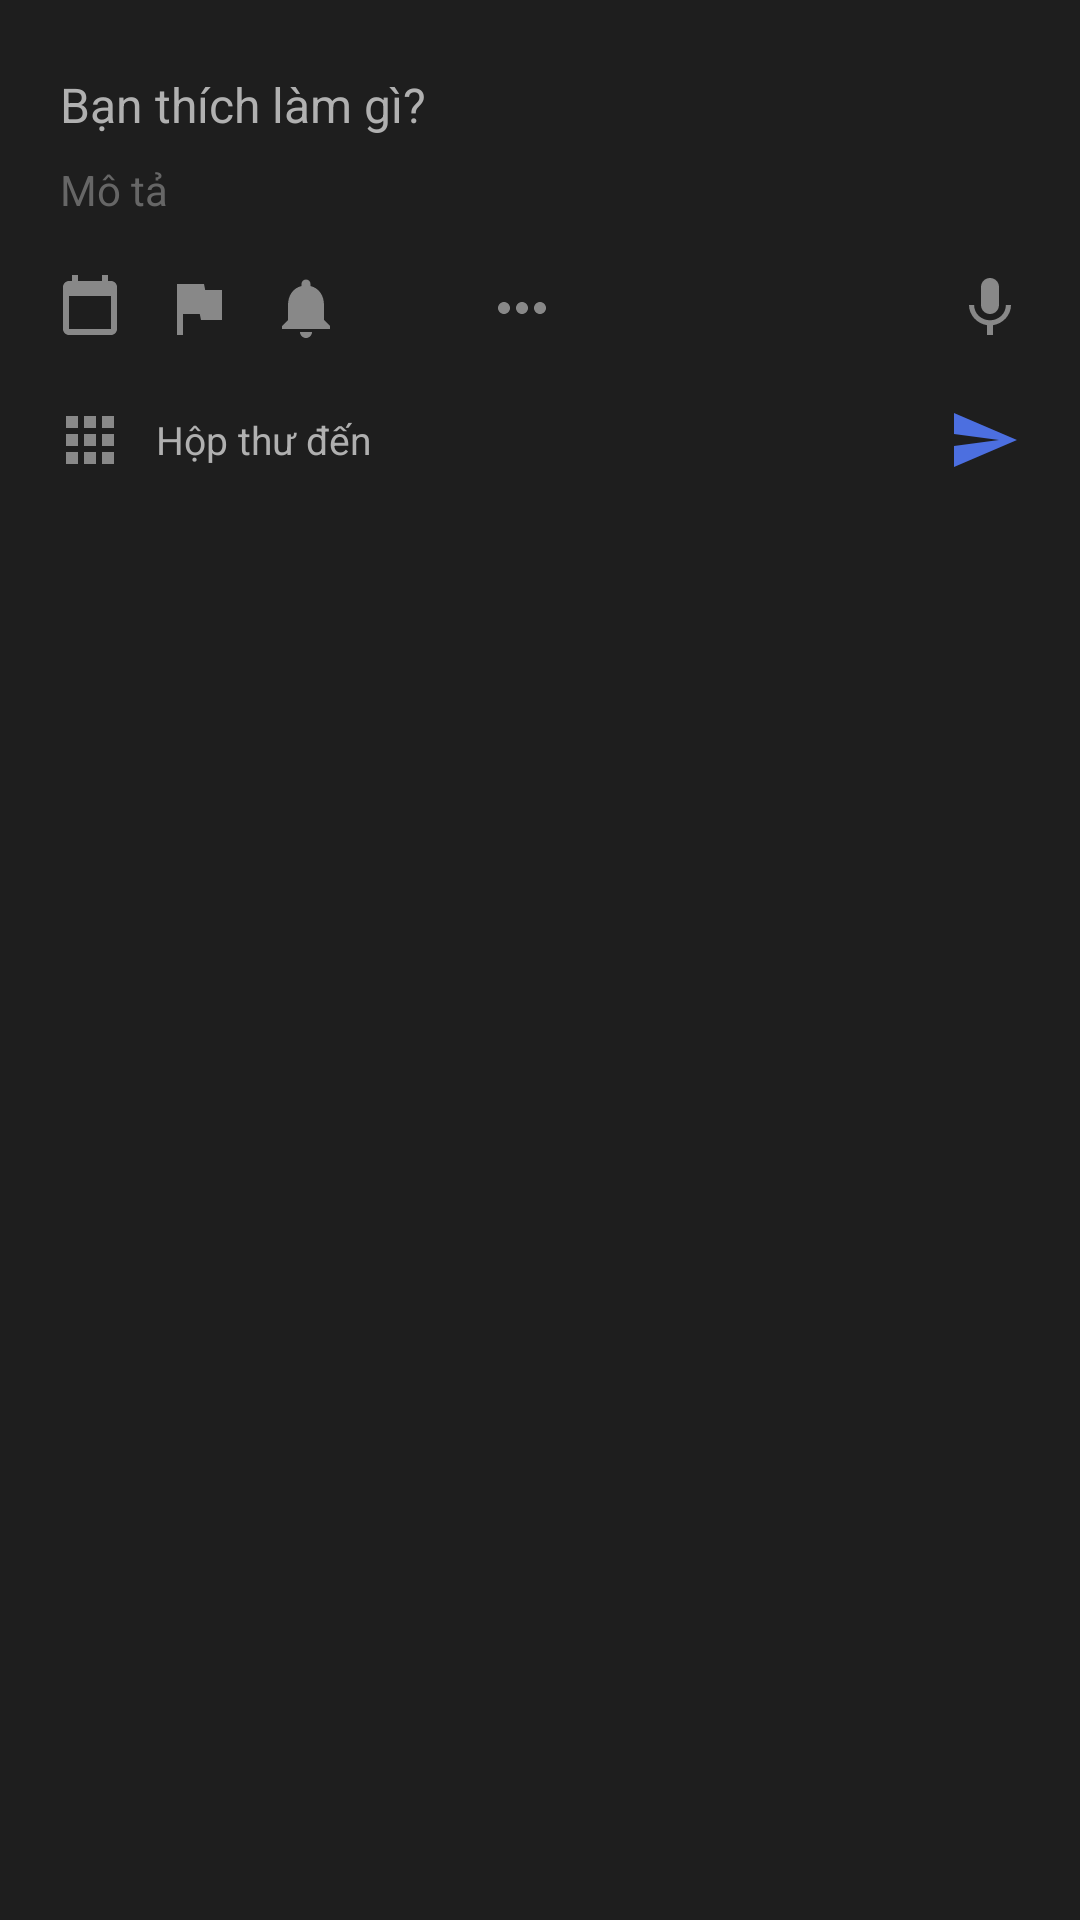

Named icons in this screenshot (1080w x 1920h) and their centers, (x=x, y=y):
Chọn ngày: (x=90, y=305)
Ghi âm: (x=990, y=306)
grid: (x=90, y=440)
Lưu task: (x=985, y=440)
Nhắc nhở: (x=306, y=308)
Thêm: (x=522, y=308)
Đánh dấu: (x=199, y=309)
